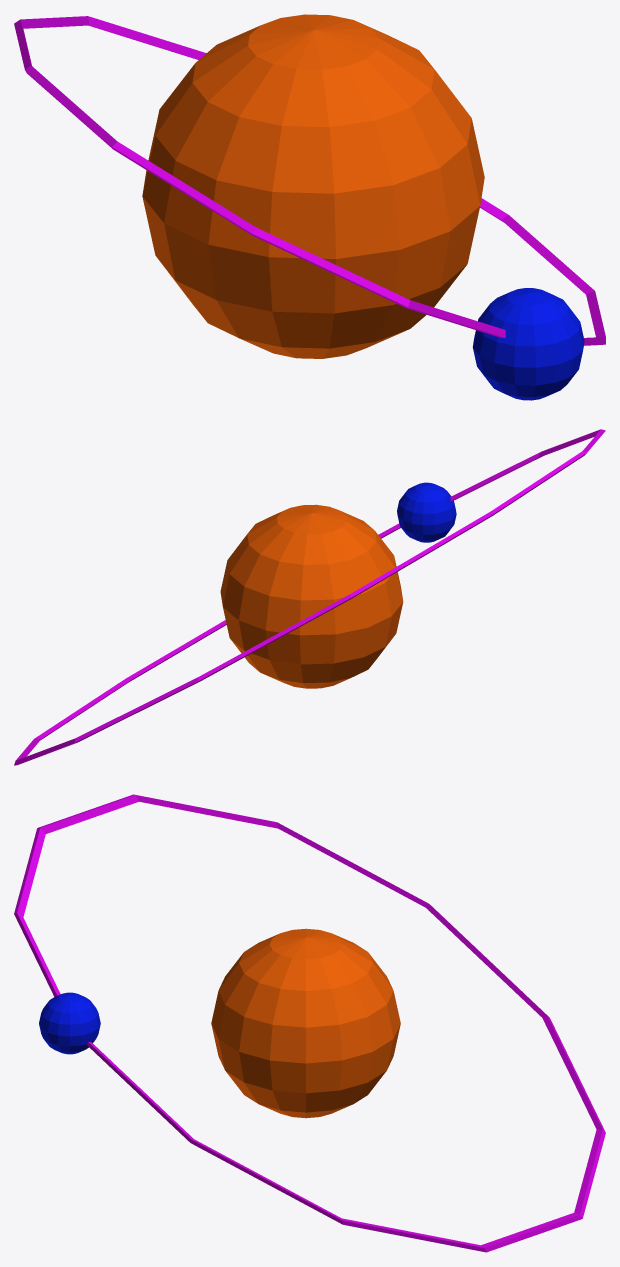
Rendered from Mercury.fbx.
3 views of the same model, one above another, from view 1: azimuth 30°, elevation 25°; view 2: azimuth 150°, elevation 25°; view 3: azimuth 270°, elevation 25° (orthographic). The views are drawn at different scales.
Visible parts, largest first — view 1: _Sun, 1.-MercuryOrbit, 1.-Mercury; view 2: _Sun, 1.-MercuryOrbit, 1.-Mercury; view 3: _Sun, 1.-MercuryOrbit, 1.-Mercury.
Boxes of the visible parts, x1,y1,x2,y2 form: _Sun: (142, 14, 484, 358); 1.-MercuryOrbit: (14, 16, 605, 345); 1.-Mercury: (472, 288, 584, 400); _Sun: (220, 504, 403, 688); 1.-MercuryOrbit: (14, 429, 605, 765); 1.-Mercury: (397, 482, 456, 542); _Sun: (211, 928, 400, 1118); 1.-MercuryOrbit: (14, 794, 605, 1252); 1.-Mercury: (39, 992, 100, 1054).
Bounding box in the file's own units: 65.29 × 42.38 × 85.03.
